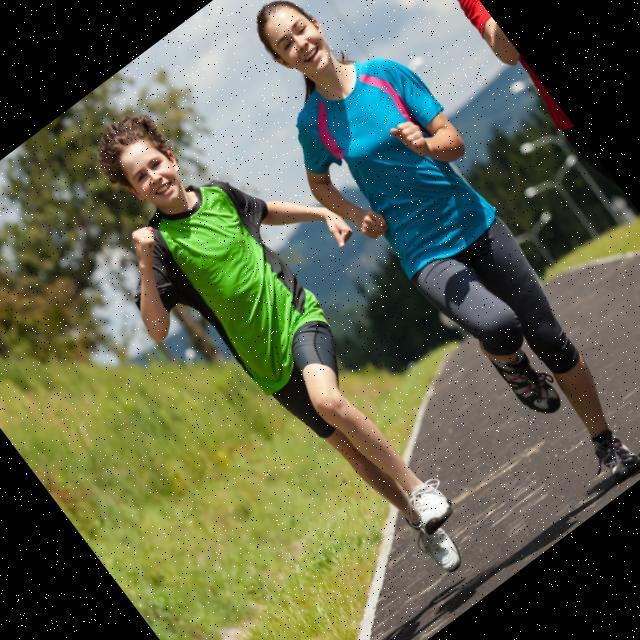Person: (35, 48, 555, 635), (204, 0, 640, 524)
